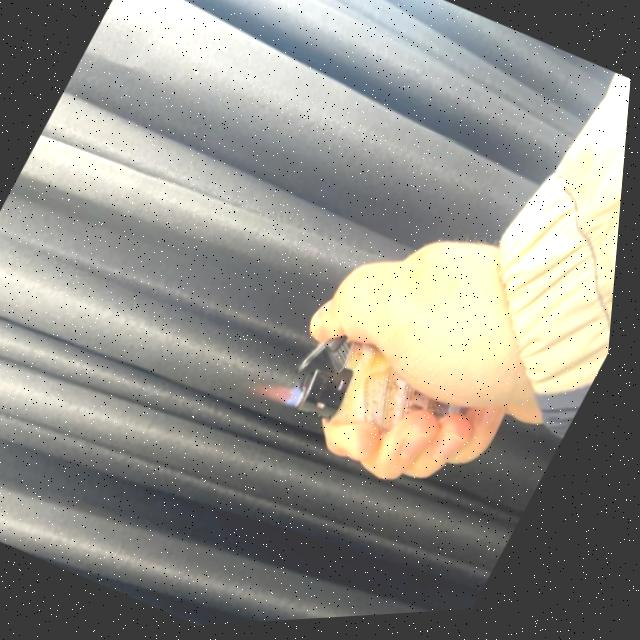Fire: (252, 368, 318, 416)
